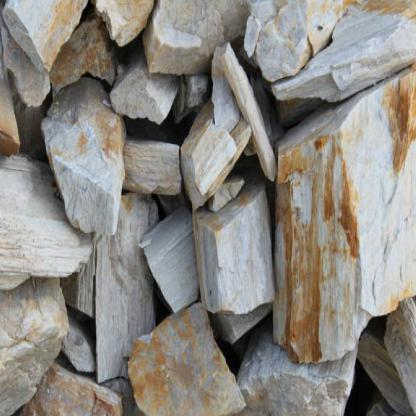Sedimentary_Limestone: (293, 115, 394, 326), (148, 135, 222, 284), (49, 104, 98, 277), (145, 304, 215, 415), (0, 303, 46, 404)
